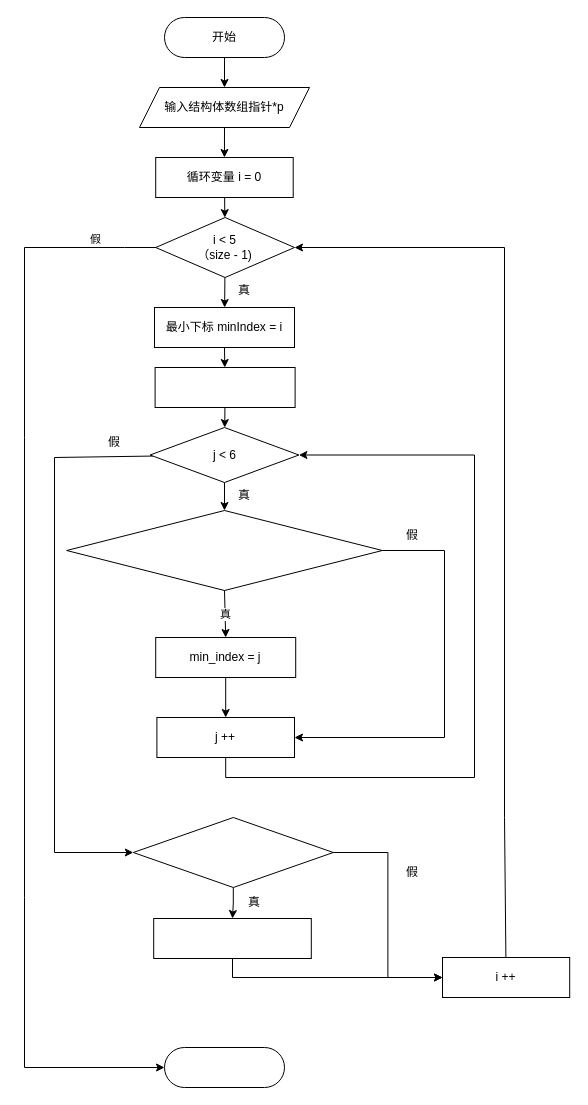
Some shapes in this 588 by 1105 pixel diagram are drawn without their labels. Each missing label, with the centre of its shape:
min_index != i: (232,852)
下标为 j 长实数 < 下标为 min_index 长实数: (224,550)
交换下标为 i 和下标为min_index 的内容: (232,938)
循环变量 j = i + 1: (224,387)
结束: (224,1067)
